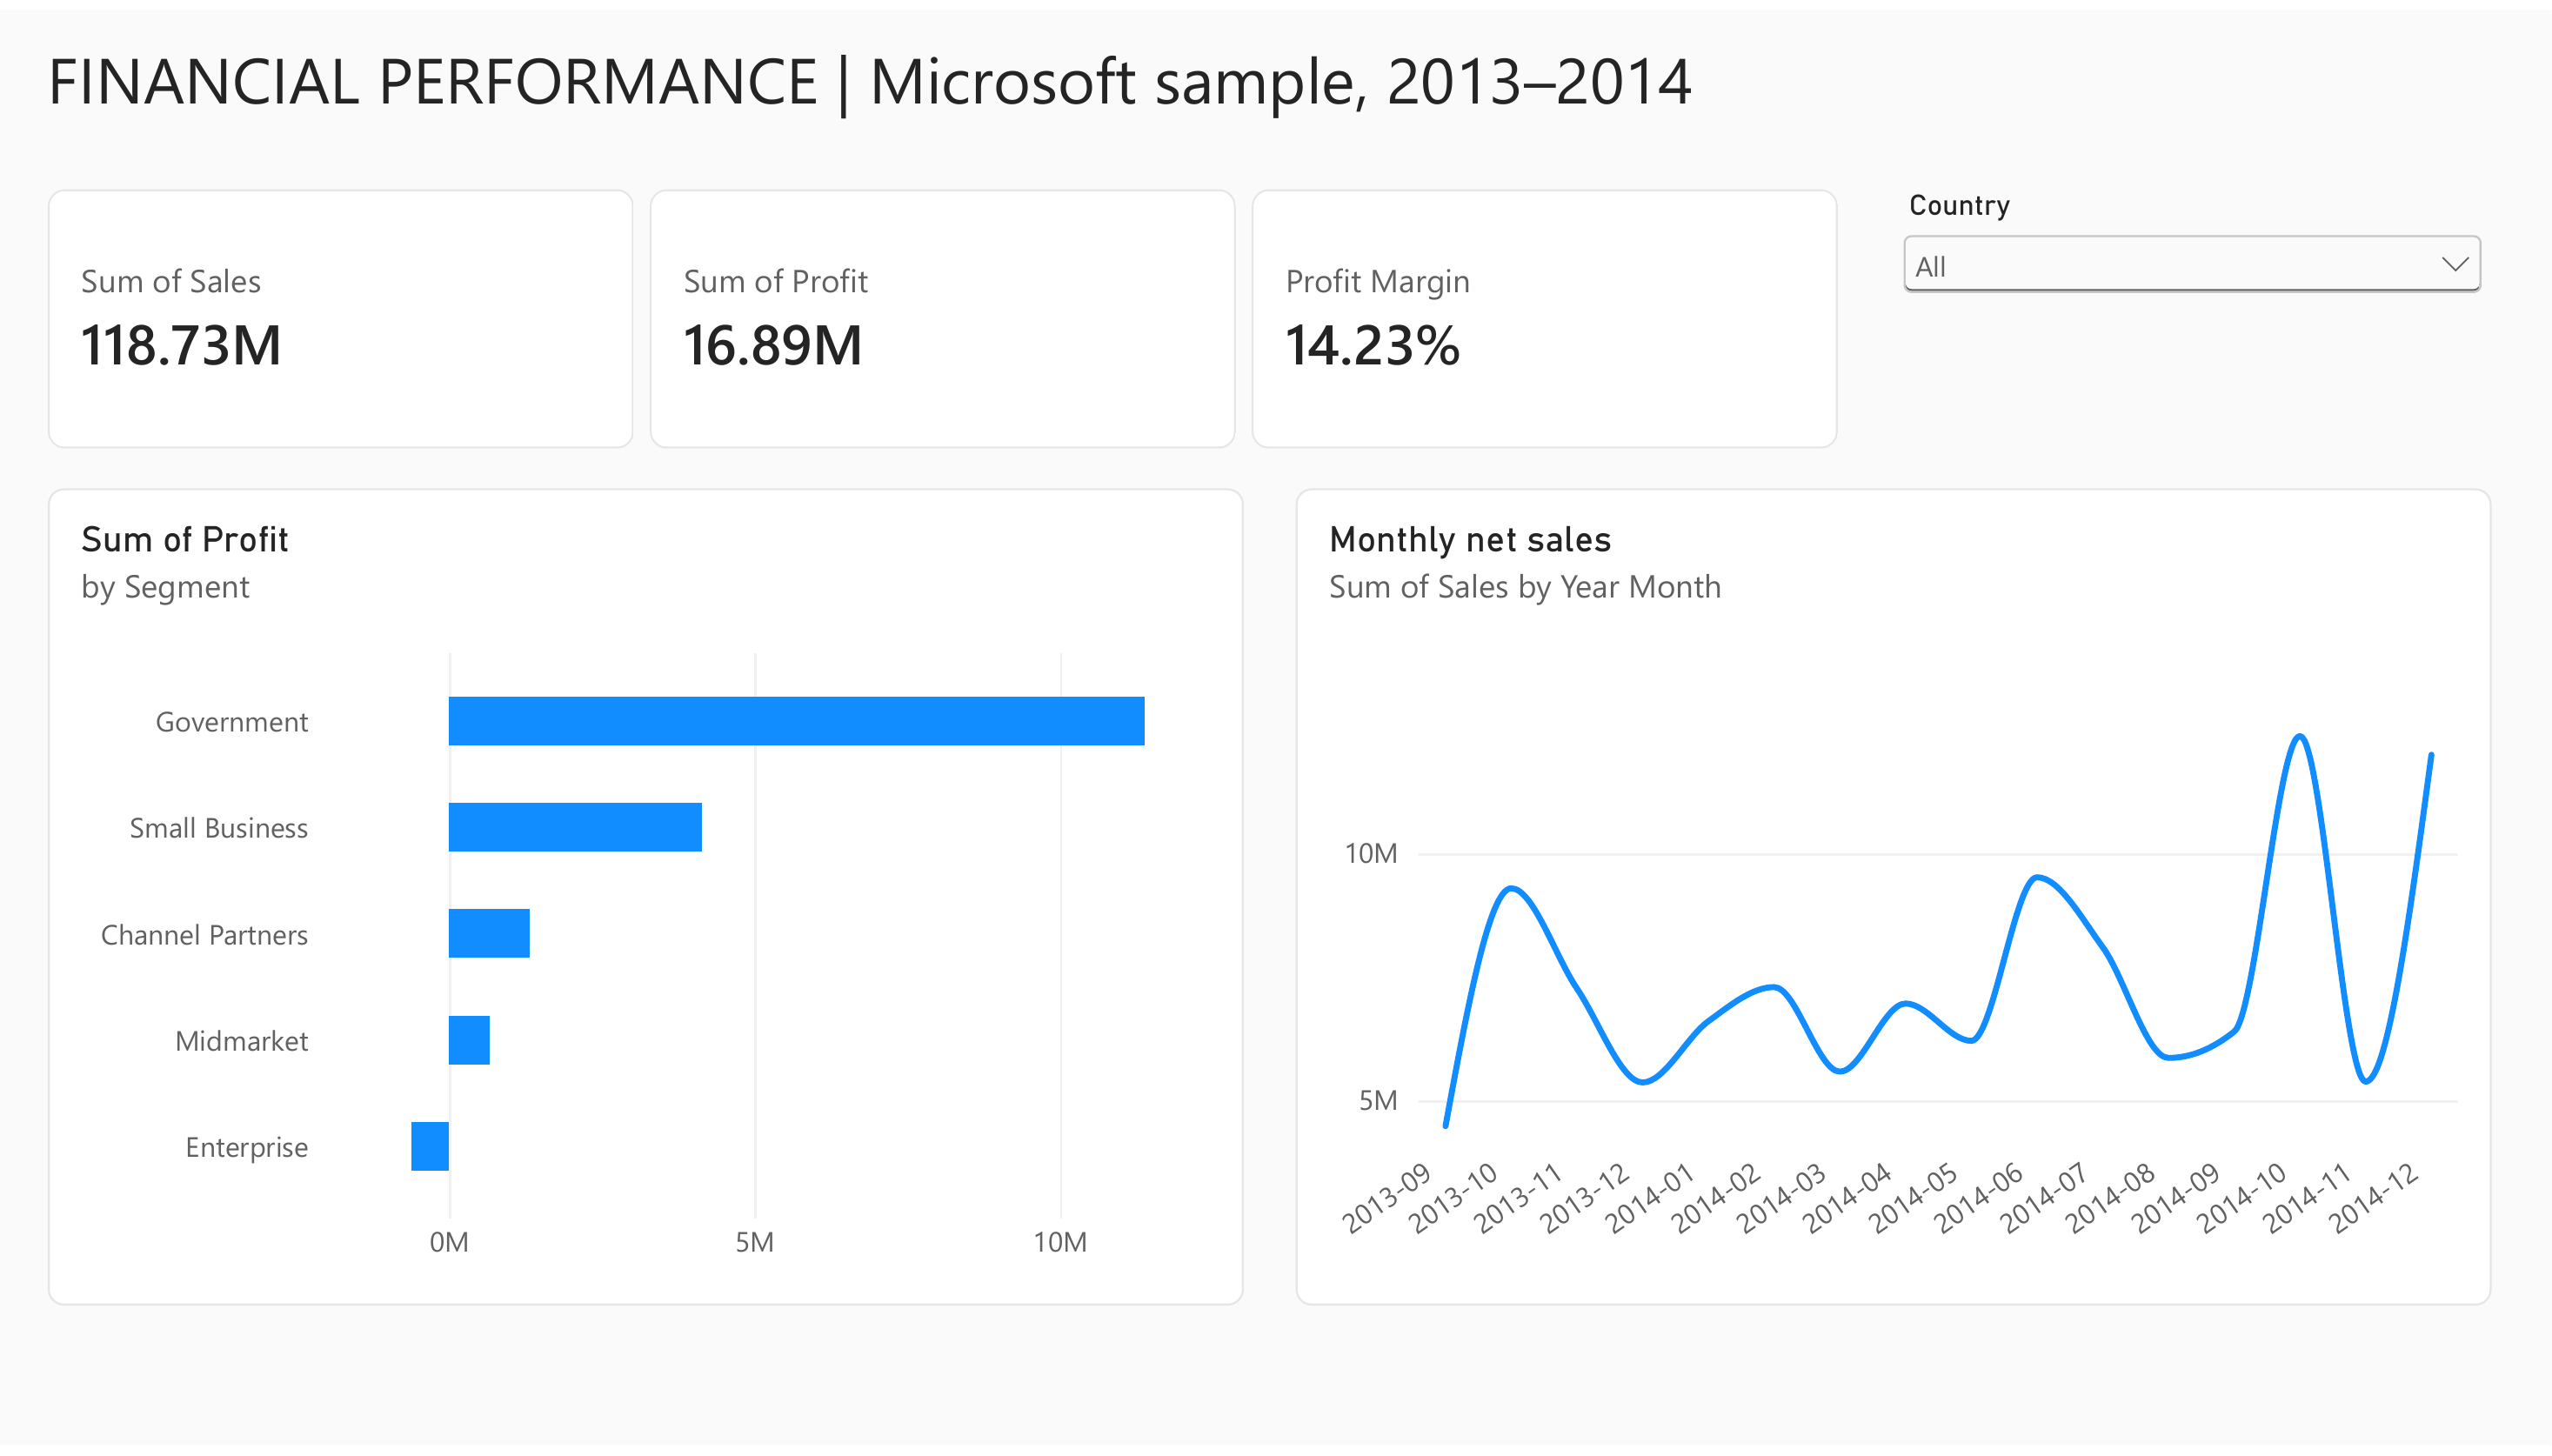

Layout of this report page (visuals, bound fields, positions):
{"tool":"powerbi","page":{"name":"01 Executive Overview","canvas":[1280,720],"ordinal":0},"visuals":[{"type":"cardVisual","fields":{"Data":["Sum(financials.Sales)","Sum(financials.Profit)","financials.Profit Margin"]},"box":[24,90,900,130],"z":0},{"type":"clusteredBarChart","fields":{"Category":["financials.Segment"],"Y":["Sum(financials.Profit)"]},"box":[24,240,600,410],"z":1},{"type":"lineChart","title":"Monthly net sales","fields":{"Category":["financials.Year Month"],"Y":["Sum(financials.Sales)"]},"box":[650,240,600,410],"z":2},{"type":"textbox","box":[24,12,1230,72],"z":3},{"type":"slicer","fields":{"Values":["financials.Country"]},"box":[950,90,300,130],"z":4}]}

Visuals, with their boxes in screenshot pixels (x1, y1, x2, y2), scaled from the page's 1280x720 canvas onto the 2552x1456 screenshot:
cardVisual - Sum(financials.Sales) x Sum(financials.Profit): 48,182,1842,445
clusteredBarChart - financials.Segment x Sum(financials.Profit): 48,485,1244,1314
"Monthly net sales" lineChart: 1296,485,2492,1314
textbox: 48,24,2500,170
slicer - financials.Country: 1894,182,2492,445
